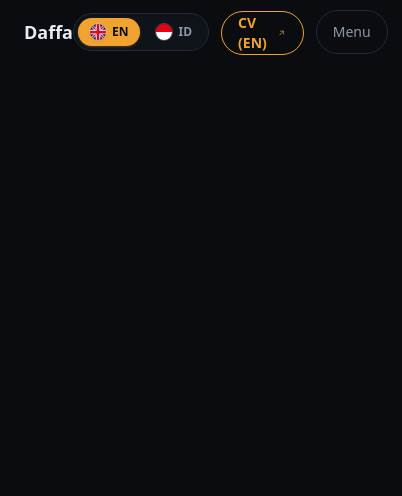
Scenario: Navbar › closes the mobile menu when a section is chosen
The width and height of the screenshot is (402, 496).
Step 1. Click the button "Menu" → {"x": 352, "y": 32}, box [316,10,388,54]
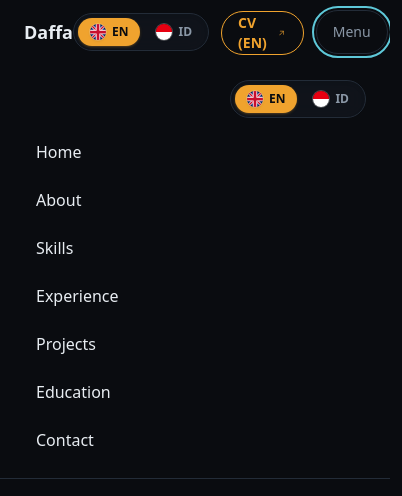
Step 2. Click the link "Projects" → {"x": 66, "y": 344}, box [36,333,96,355]
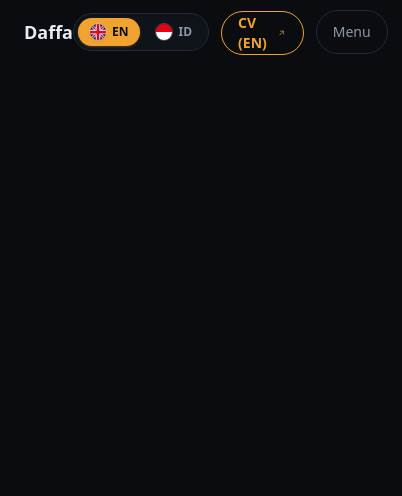
expect the button "Menu" is collapsed: met, box [316,10,388,54]
